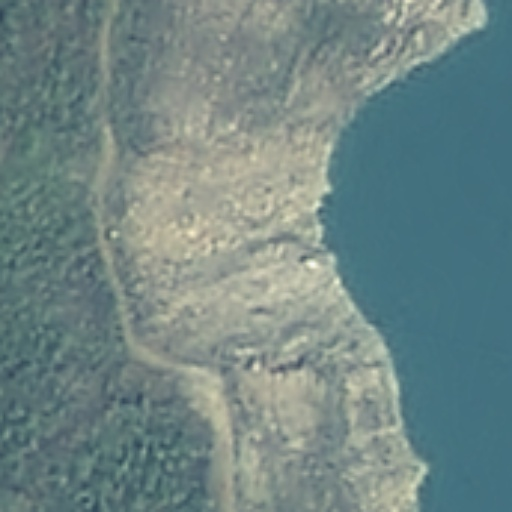landslide: (124, 62, 350, 376)
